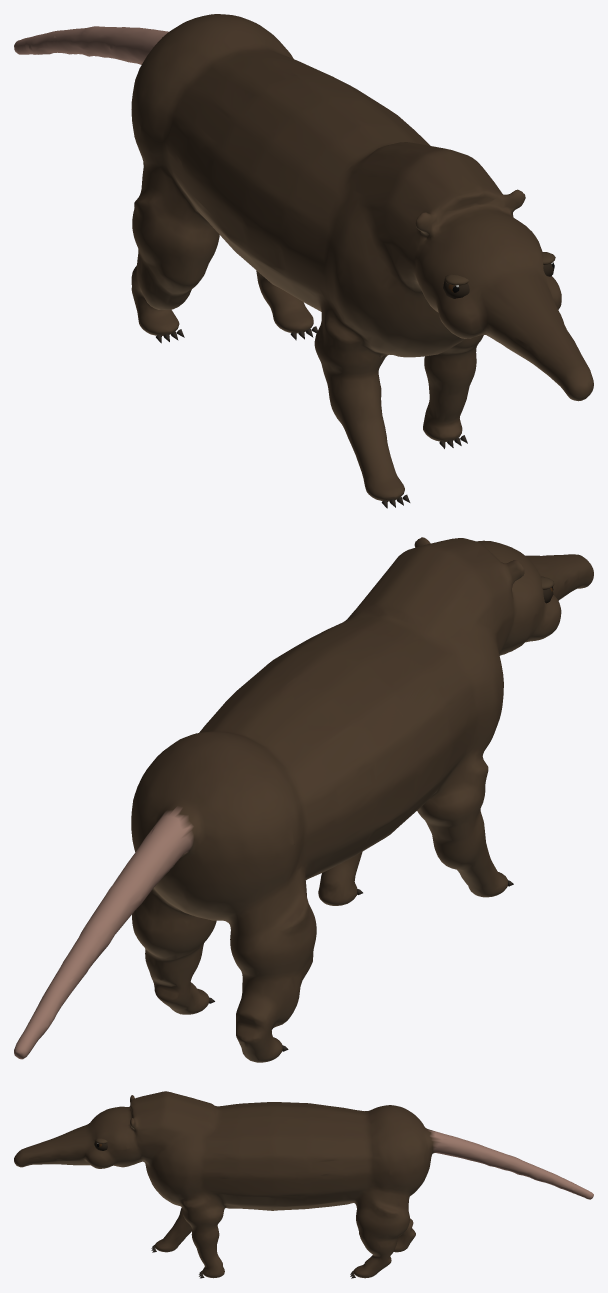
File: DeinogalerixKoenigswaldi.fbx
The picture shows the model from 3 angles, top to bottom: view 1: azimuth 30°, elevation 25°; view 2: azimuth 150°, elevation 25°; view 3: azimuth 270°, elevation 25°; orthographic projection. The views are drawn at different scales.
Parts seen in each view (by area): view 1: DeinogalerixKoenigswaldi; view 2: DeinogalerixKoenigswaldi; view 3: DeinogalerixKoenigswaldi.
Boxes of the visible parts, x1,y1,x2,y2 form: DeinogalerixKoenigswaldi: (14,14,593,508); DeinogalerixKoenigswaldi: (14,537,593,1062); DeinogalerixKoenigswaldi: (14,1091,593,1278).
Size of the model in its own units: 0.3118 by 0.5677 by 1.76.
